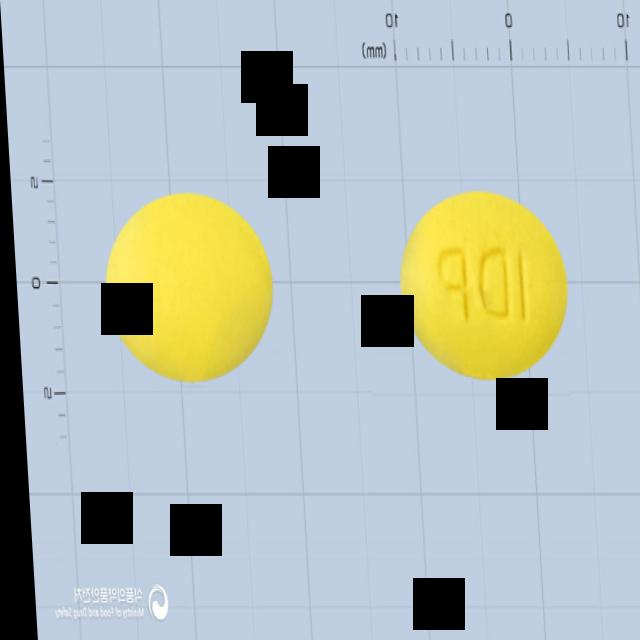Ciracle: (90, 184, 274, 390), (387, 188, 573, 384)
